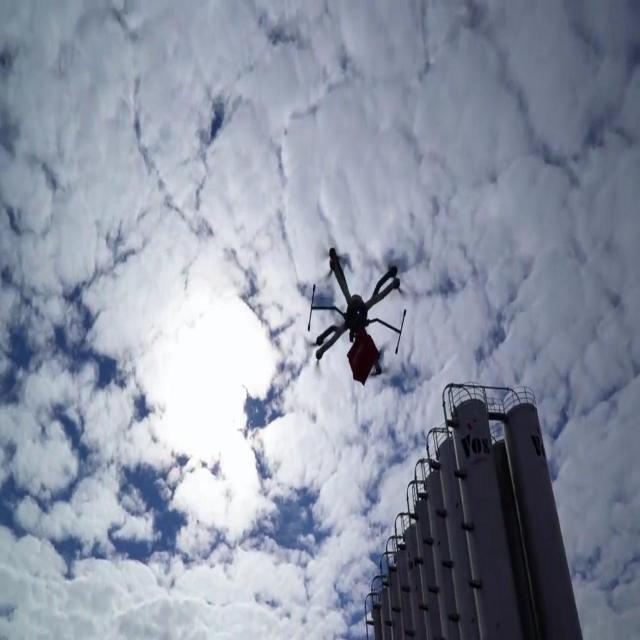drone: (307, 244, 408, 387)
